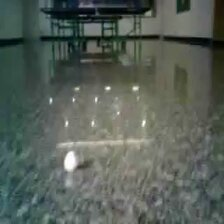w: (63, 151, 79, 172)
